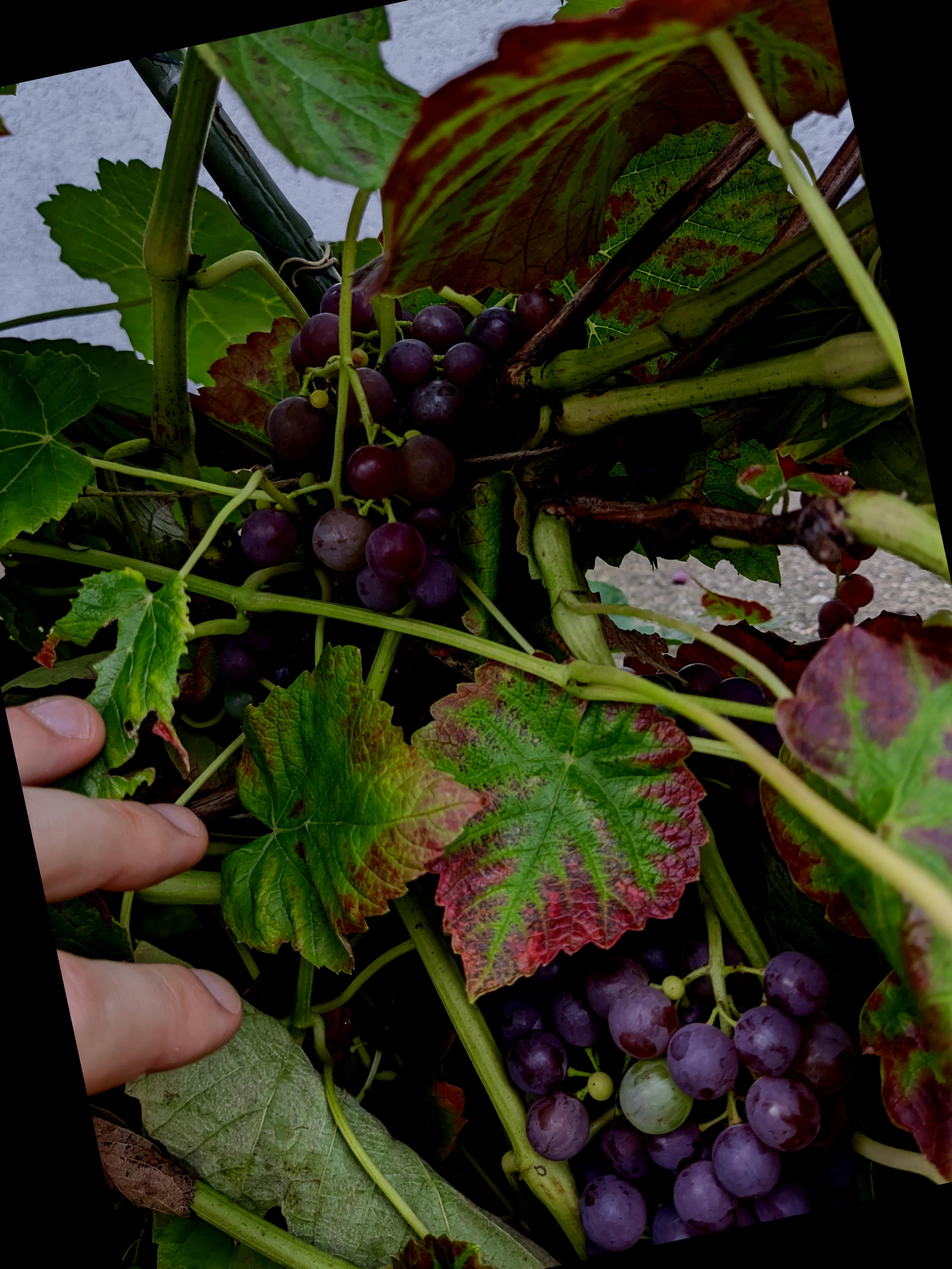Grape Unripe: (297, 749, 778, 1269), (107, 327, 610, 736), (96, 673, 355, 875), (222, 1055, 344, 1170)
